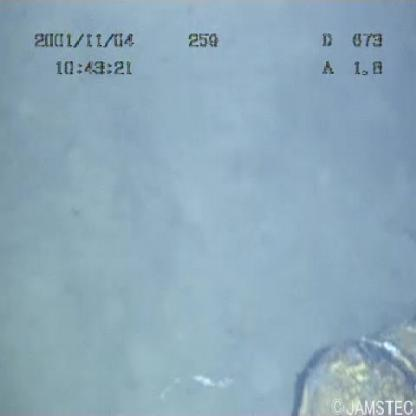Rác: (268, 315, 416, 416)
